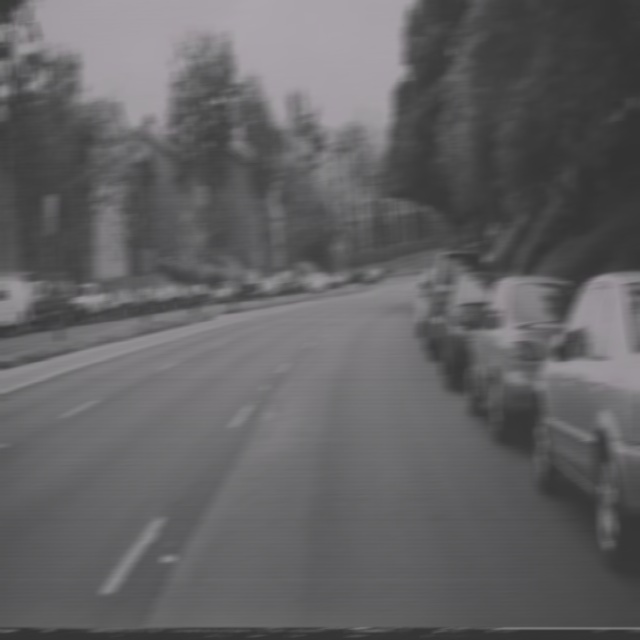signalAhead: (332, 233, 348, 264), (488, 220, 500, 245)
